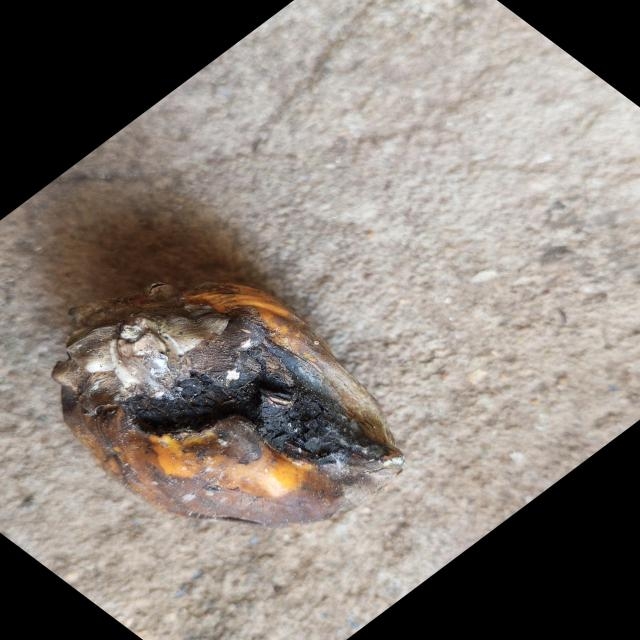damaged: (51, 288, 400, 530)
